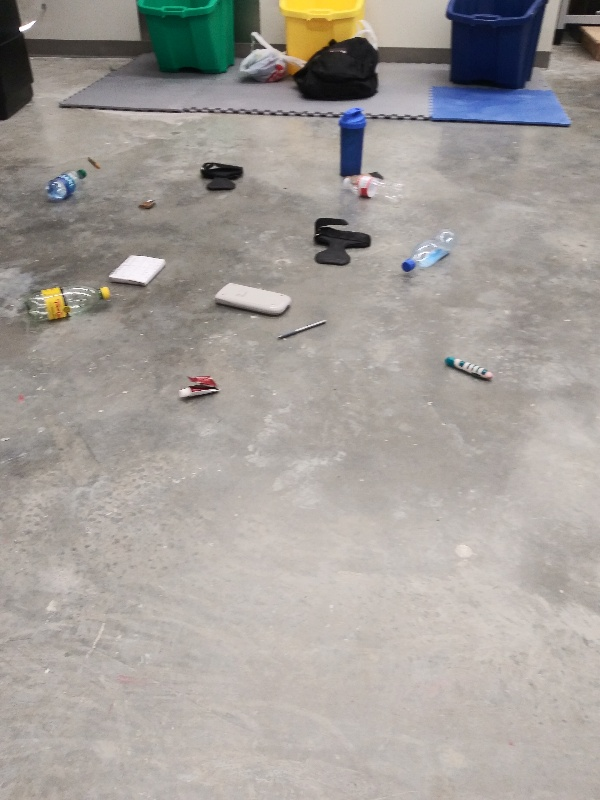bottle: (21, 280, 114, 326), (396, 225, 458, 278), (340, 173, 407, 209), (42, 163, 89, 206)
